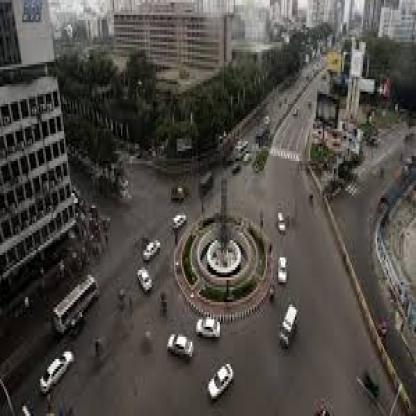car: (48, 266, 104, 347), (203, 357, 243, 403), (38, 349, 75, 396), (160, 331, 200, 368), (275, 302, 302, 354), (189, 309, 225, 342), (143, 231, 160, 271), (133, 268, 154, 298), (276, 244, 288, 288), (271, 206, 287, 236), (171, 214, 194, 229)
